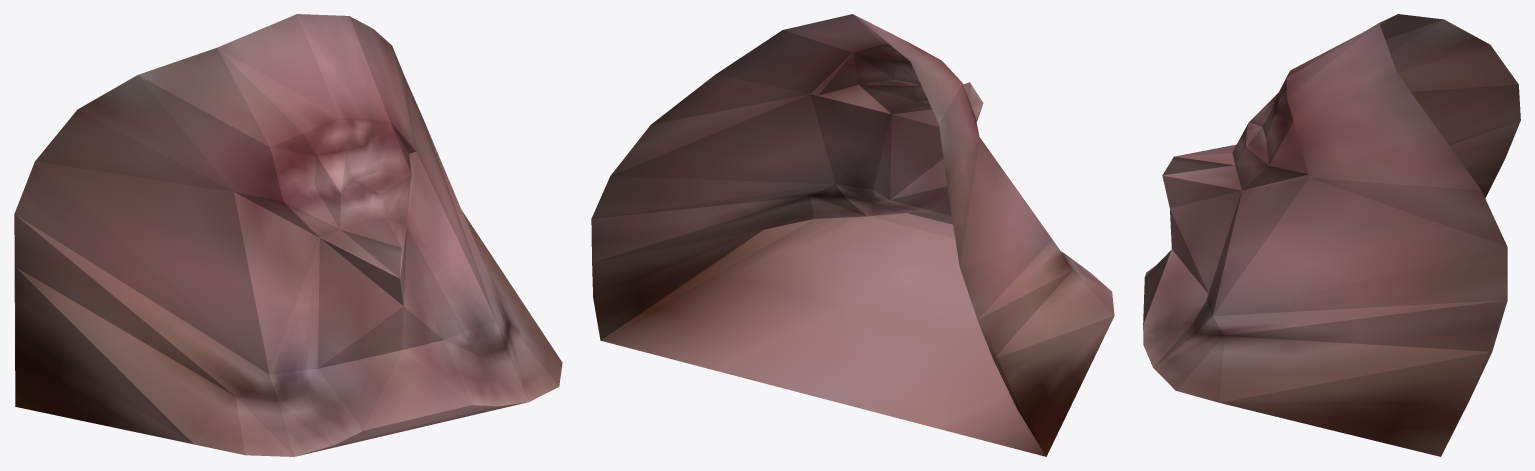
File: real_25910.obj
3 views of the same model, side by side, from view 1: azimuth 30°, elevation 25°; view 2: azimuth 150°, elevation 25°; view 3: azimuth 270°, elevation 25° (orthographic). The views are drawn at different scales.
Bounding box in the file's own units: 120 × 90 × 92.33.
